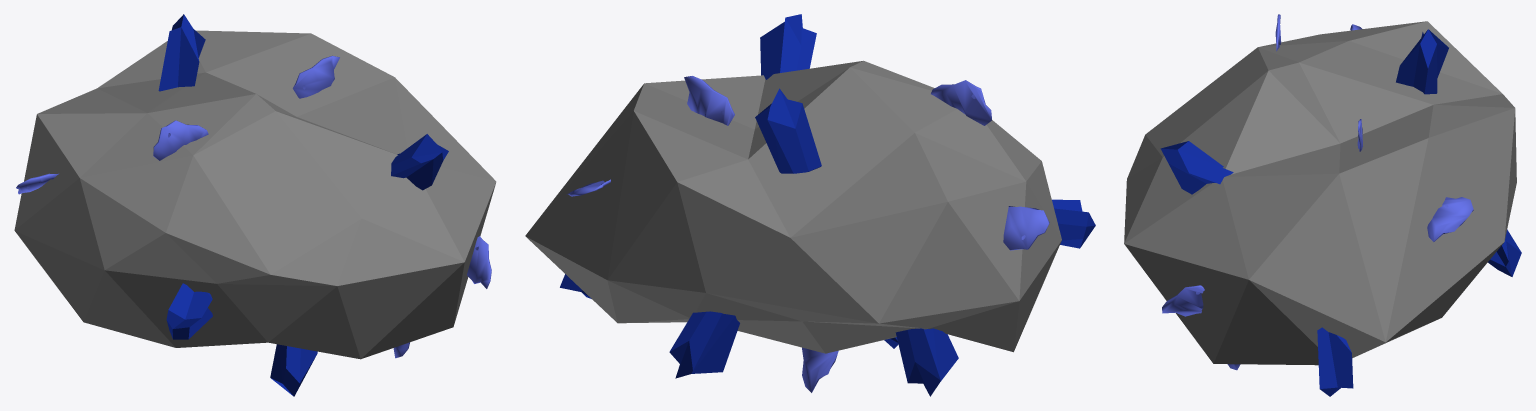
File: cobalt.fbx
3 views of the same model, side by side, from view 1: azimuth 30°, elevation 25°; view 2: azimuth 150°, elevation 25°; view 3: azimuth 270°, elevation 25° (orthographic). The views are drawn at different scales.
Visible parts, largest first — view 1: Icosphere.002; view 2: Icosphere.002; view 3: Icosphere.002.
Part boxes in pixels (x1=…): Icosphere.002: x1=14, y1=14, x2=496, y2=396; Icosphere.002: x1=525, y1=14, x2=1095, y2=396; Icosphere.002: x1=1124, y1=14, x2=1521, y2=396.
Size of the model in its own units: 307 by 202 by 246.
